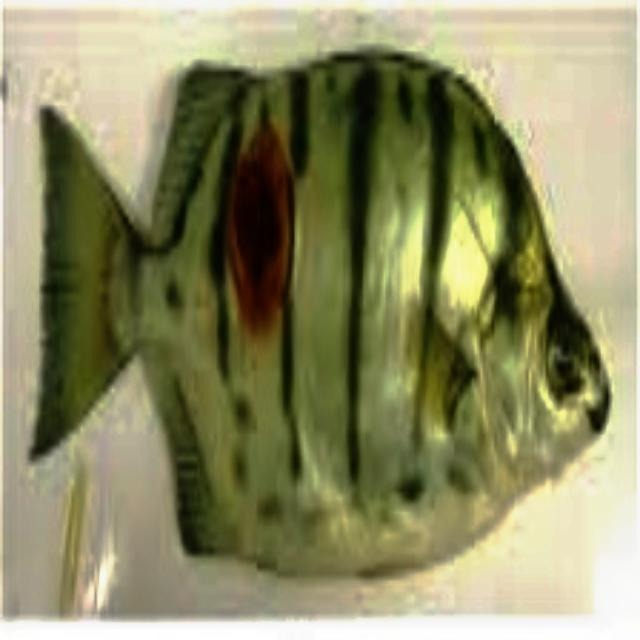Edwardsiella Ictaluri -Bacterial Red Disease-: (31, 51, 603, 571)
